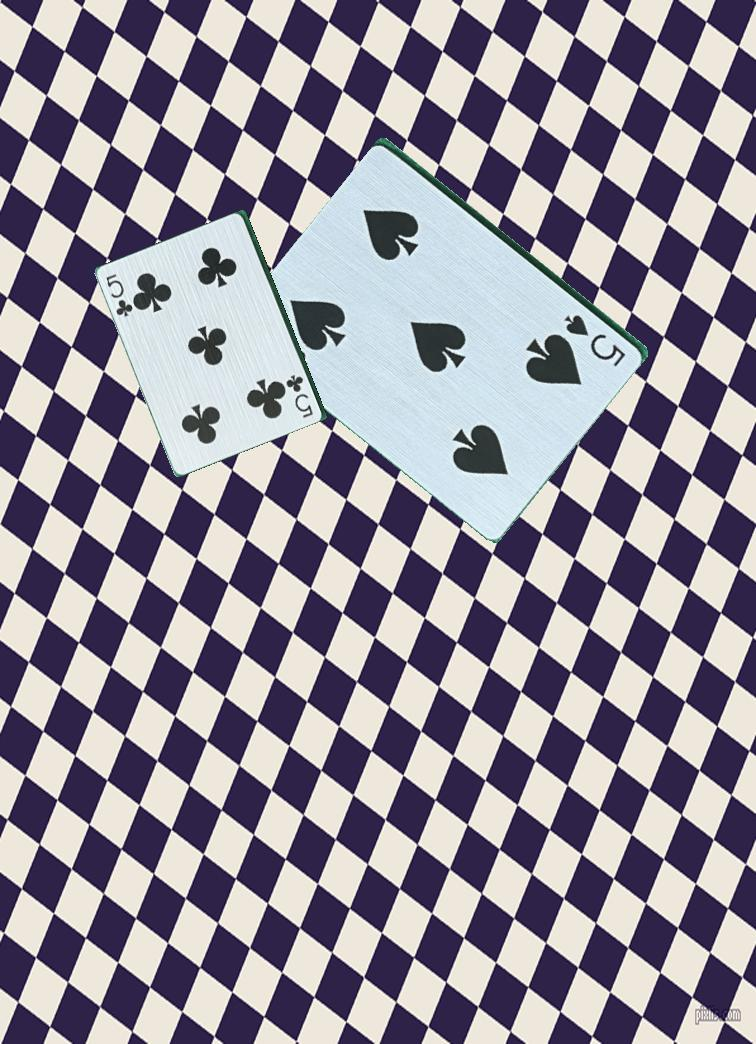5c: (102, 270, 135, 321), (284, 371, 316, 423)
5s: (561, 311, 637, 369)
